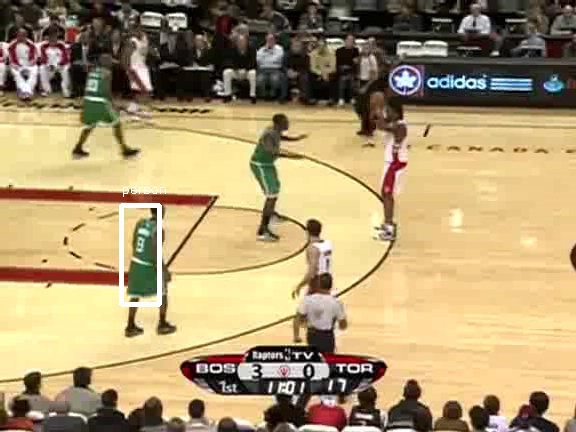person: (130, 219, 164, 300), (129, 219, 163, 300), (131, 219, 165, 300), (130, 218, 164, 299), (130, 220, 164, 301)
target_negative: (198, 52, 533, 323), (247, 97, 408, 403), (261, 76, 395, 361), (300, 175, 432, 327), (480, 252, 576, 316), (451, 430, 559, 432)
